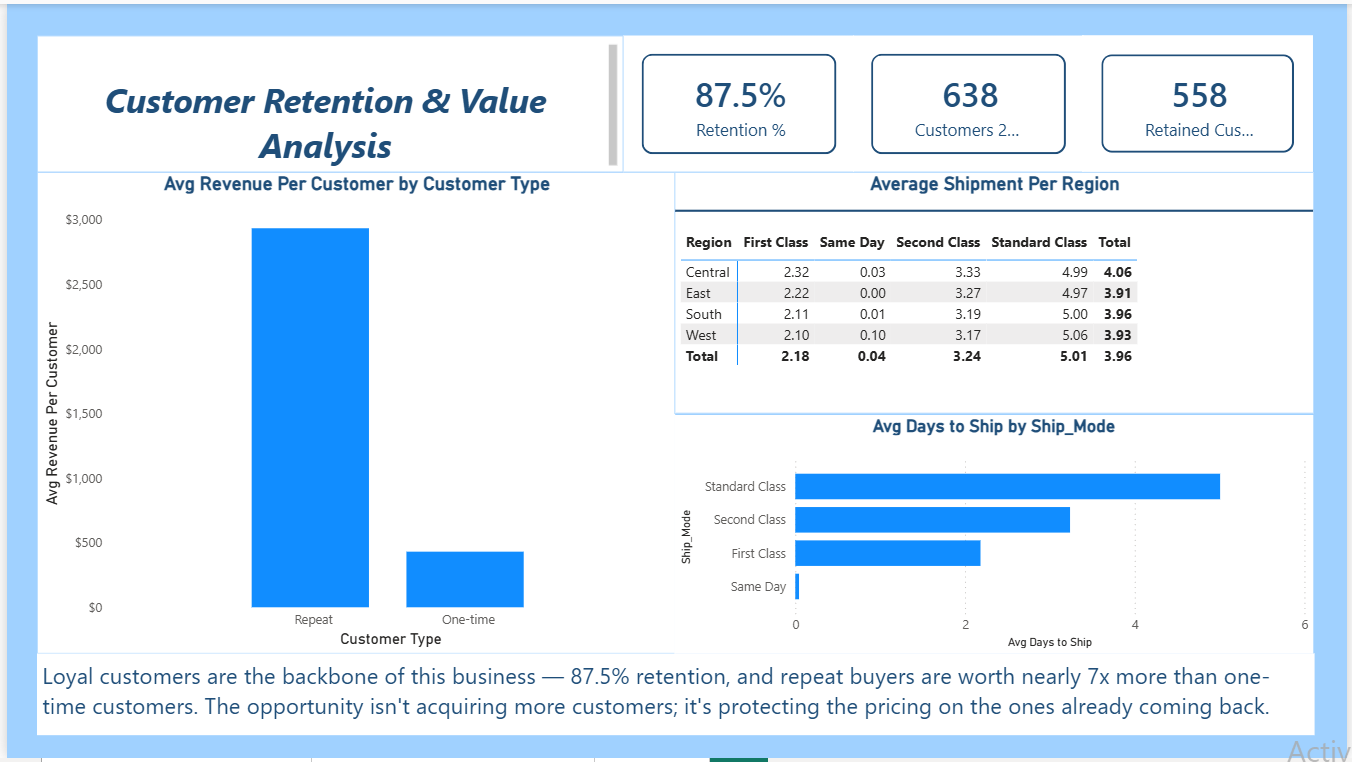

What the dashboard file says about the page in this screenshot:
{"tool":"powerbi","page":{"name":"p2-customer-retention.png","canvas":[1280,720],"ordinal":1},"visuals":[{"type":"cardVisual","fields":{"Data":["vw_superstore_clean.Customers 2016"]},"box":[808,30.2,220,130],"z":0},{"type":"cardVisual","fields":{"Data":["vw_superstore_clean.Retained Customers"]},"box":[1027.5,30.2,220,130],"z":1000},{"type":"cardVisual","fields":{"Data":["vw_superstore_clean.Retention %"]},"box":[588.5,30.2,220,130],"z":2000},{"type":"clusteredColumnChart","fields":{"Category":["vw_superstore_clean.Customer Type"],"Y":["vw_superstore_clean.Avg Revenue Per Customer"]},"box":[28.4,161.1,610,460],"z":3000},{"type":"pivotTable","title":"Average Shipment Per Region","fields":{"Rows":["vw_superstore_clean.Region"],"Columns":["vw_superstore_clean.Ship_Mode"],"Values":["vw_superstore_clean.Avg Days to Ship"]},"box":[637.8,160.7,610.8,230.6],"z":4000},{"type":"textbox","box":[28.6,30.2,560,130.4],"z":5000},{"type":"textbox","box":[28.6,620.3,1220,77.9],"z":6000},{"type":"clusteredBarChart","fields":{"Y":["vw_superstore_clean.Avg Days to Ship"],"Category":["vw_superstore_clean.Ship_Mode"]},"box":[638,392,611,228],"z":7000}]}

Visuals, with their boxes in screenshot pixels (x1, y1, x2, y2), scaled from the page's 1280x720 canvas onto the 1352x762 screenshot:
cardVisual - vw_superstore_clean.Customers 2016: [853,32,1086,170]
cardVisual - vw_superstore_clean.Retained Customers: [1085,32,1318,170]
cardVisual - vw_superstore_clean.Retention %: [622,32,854,170]
clusteredColumnChart - vw_superstore_clean.Customer Type x vw_superstore_clean.Avg Revenue Per Customer: [30,170,674,657]
"Average Shipment Per Region" pivotTable: [674,170,1319,414]
textbox: [30,32,622,170]
textbox: [30,656,1319,739]
clusteredBarChart - vw_superstore_clean.Avg Days to Ship x vw_superstore_clean.Ship_Mode: [674,415,1319,656]
